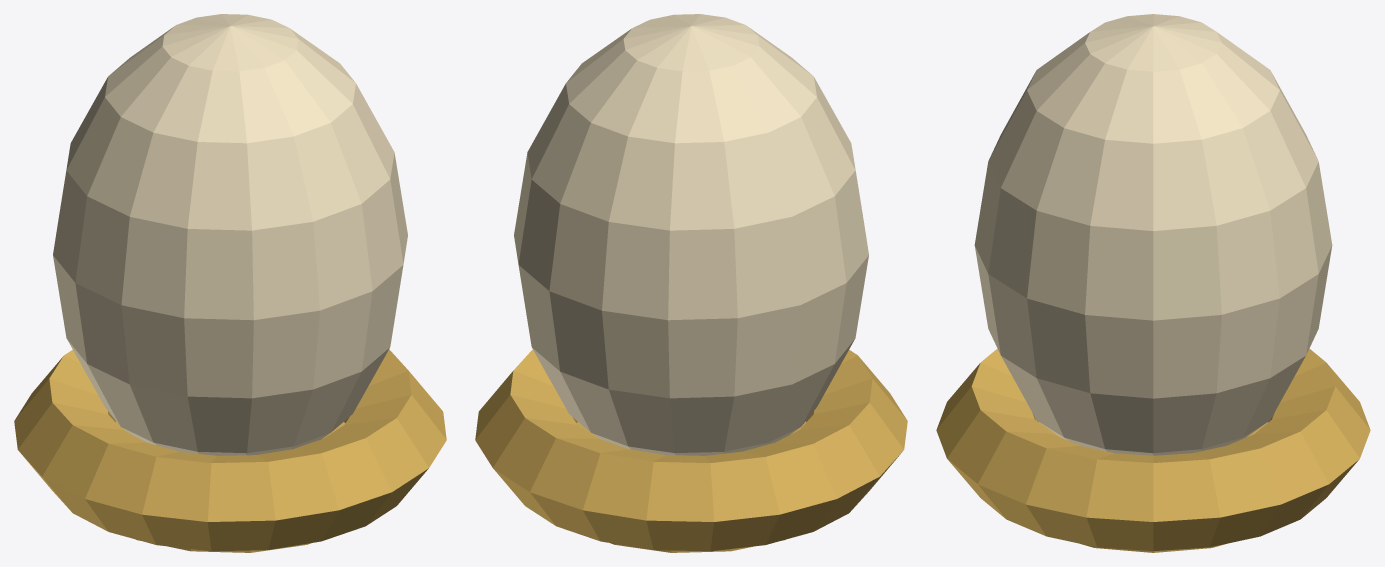
Rendered from egg-lod0.glb.
3 views of the same model, side by side, from view 1: azimuth 30°, elevation 25°; view 2: azimuth 150°, elevation 25°; view 3: azimuth 270°, elevation 25° (orthographic).
Parts seen in each view (by area): view 1: egg; view 2: egg; view 3: egg.
Part boxes in pixels (x1,y1,x2,y2): egg: (14,14,446,552); egg: (475,14,907,552); egg: (936,14,1370,552).
Size of the model in its own units: 0.34 by 0.399 by 0.34.
